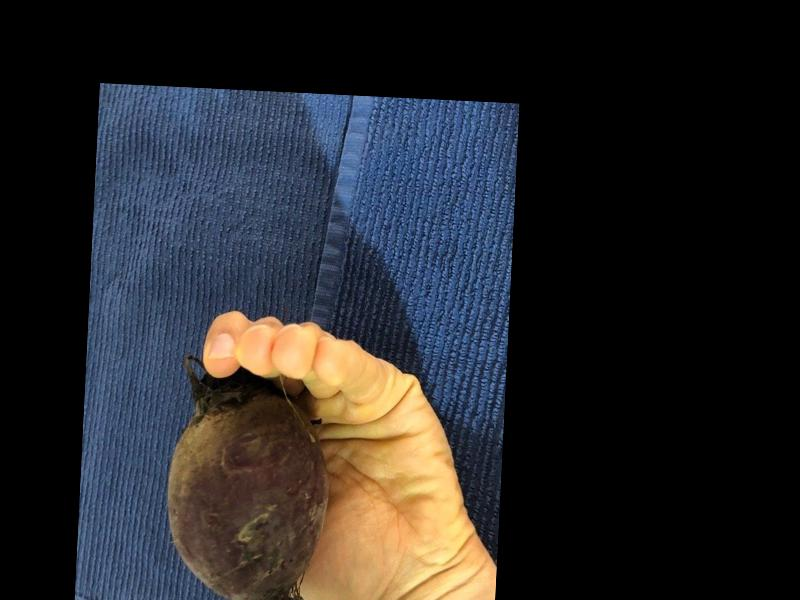Beet: (161, 351, 335, 600)
